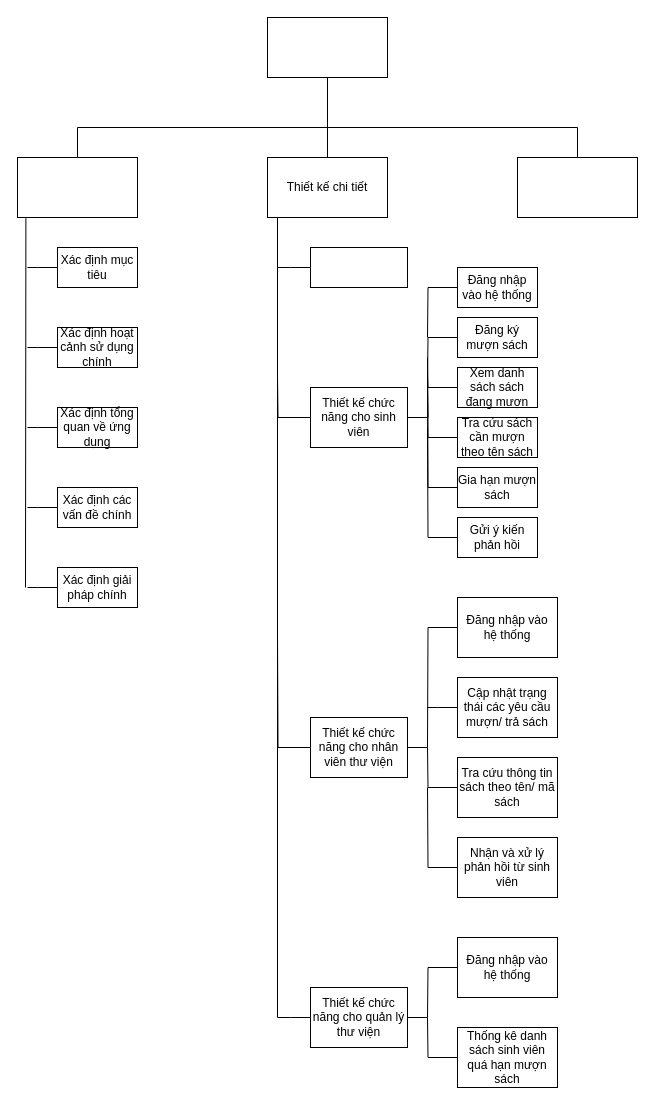
The diagram is 655 pixels wide and 1105 high, and some of its shapes have lost their labels. The centre of each missing label's shape, as x and y in pixels:
"Thiêt kế" belongs at (327,47).
"Thiết kế cơ sở dữ liệu" belongs at (577,187).
"Thiết kế giao diện" belongs at (359,267).
"Thiết kế kiến trúc" belongs at (77,187).
